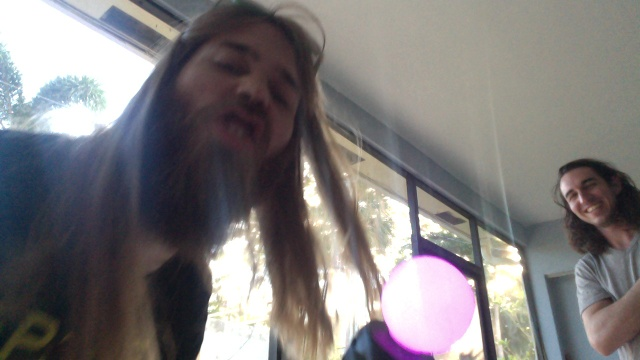wand: (382, 256, 476, 353)
